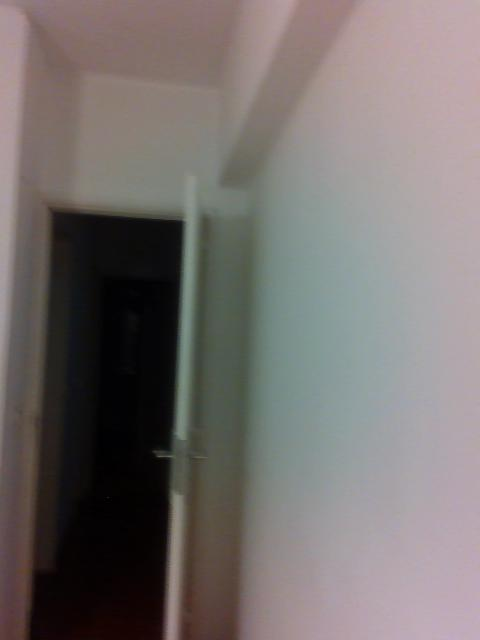open_door: (17, 194, 216, 638)
